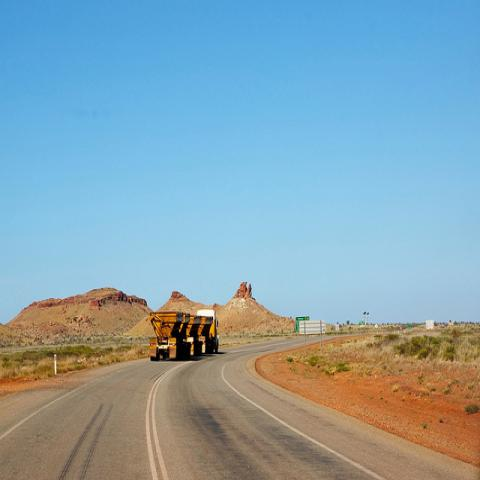truck: (148, 309, 221, 362)
